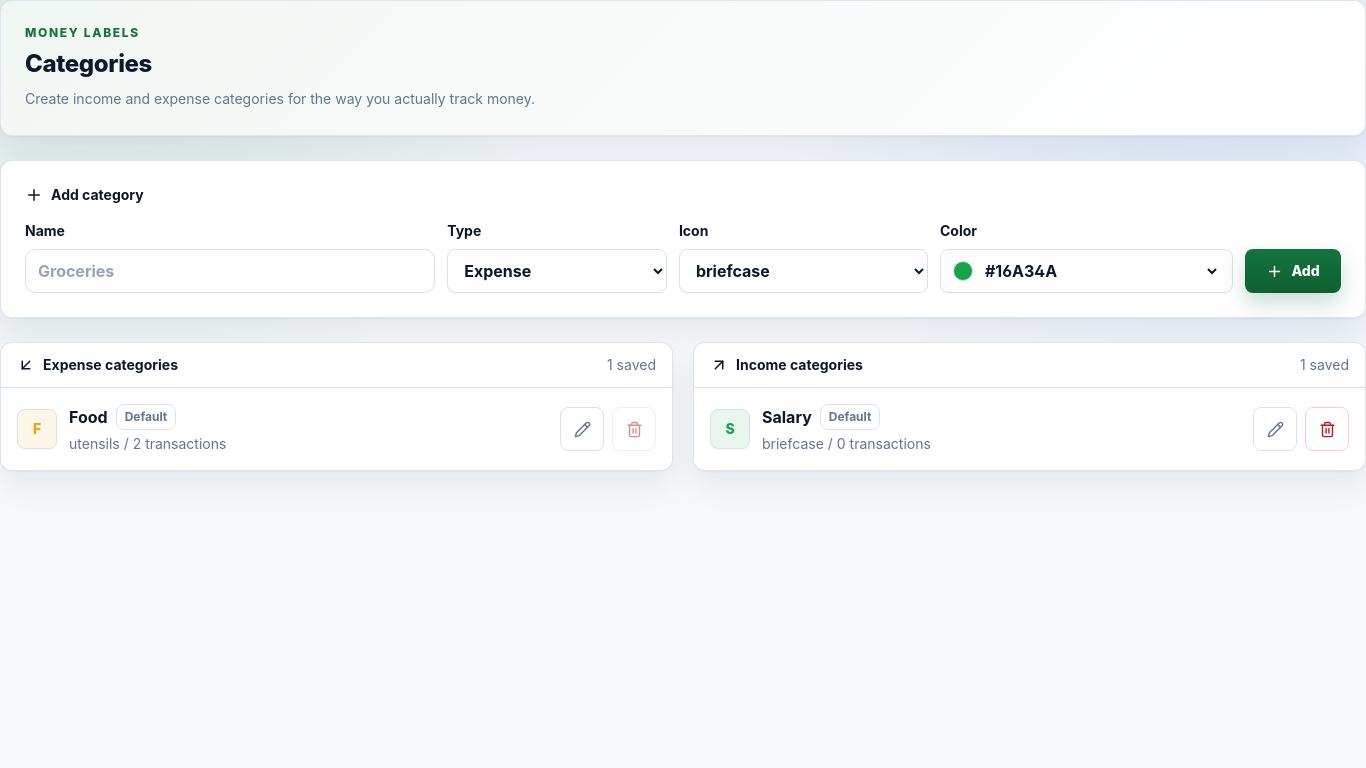
Scenario: CategoryManager › updates an existing category
Expected: the text "Salary" is shown, [762, 405, 812, 429]
Click the button named "Edit Salary category". click: (1275, 429)
box: [1253, 407, 1297, 451]
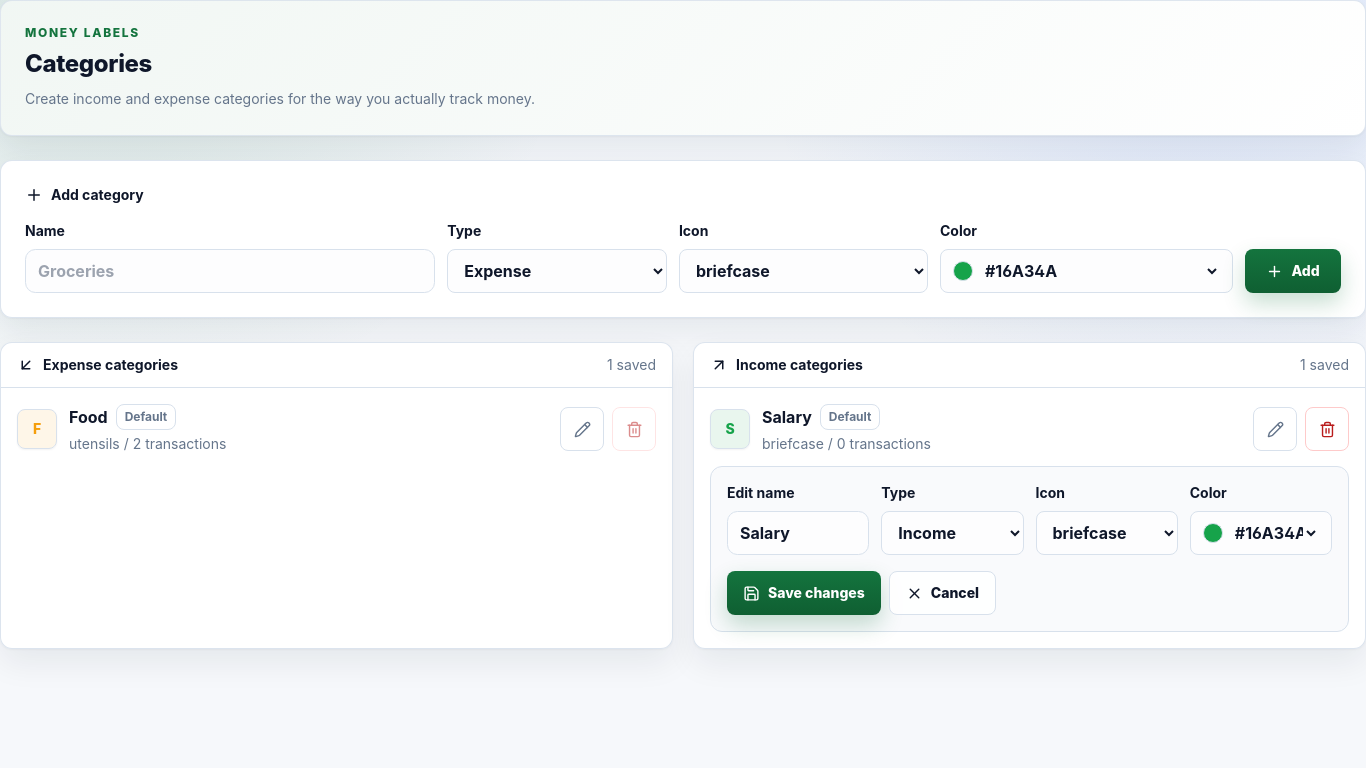
Replace the text in the field labelled "Edit name" with "Monthly Salary". click: (798, 533)
box: [727, 511, 869, 555]
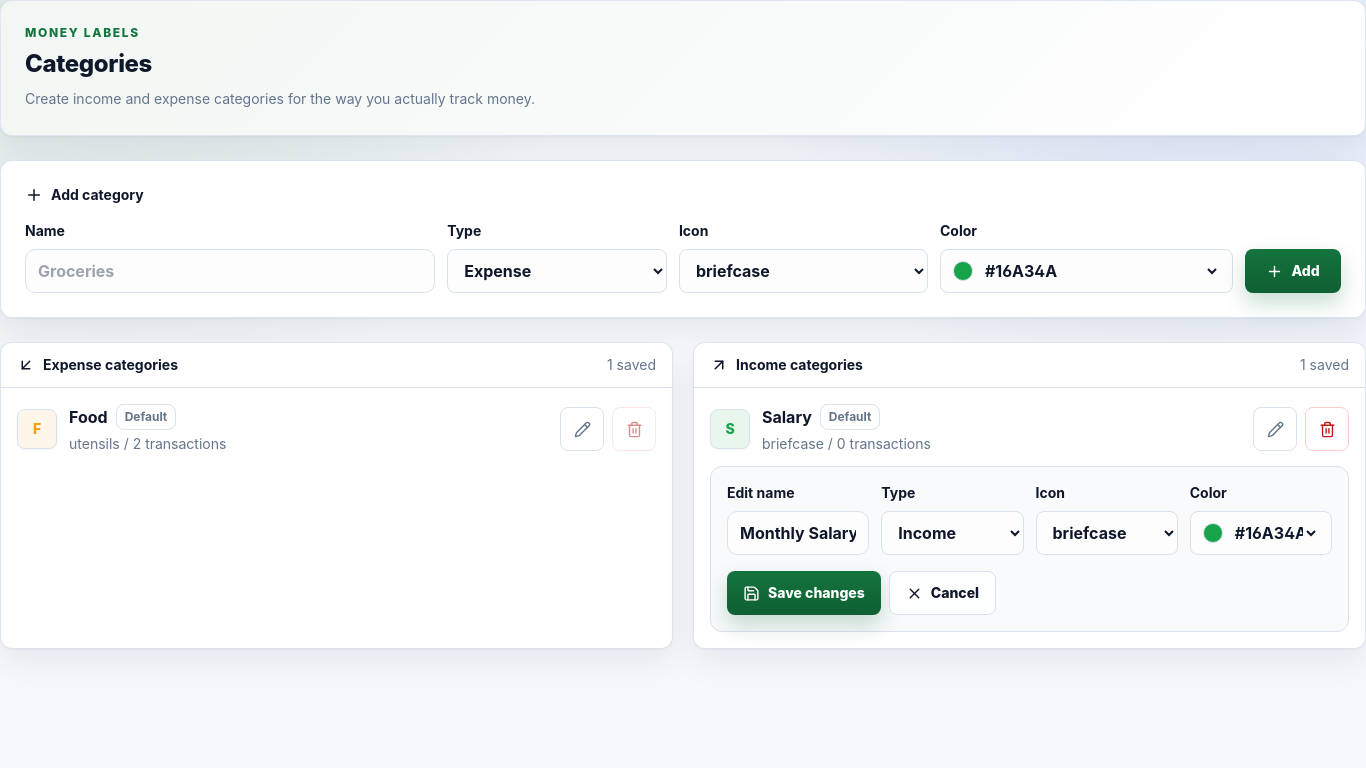
Click the button "Save changes". click: (804, 593)
box: [727, 571, 881, 615]
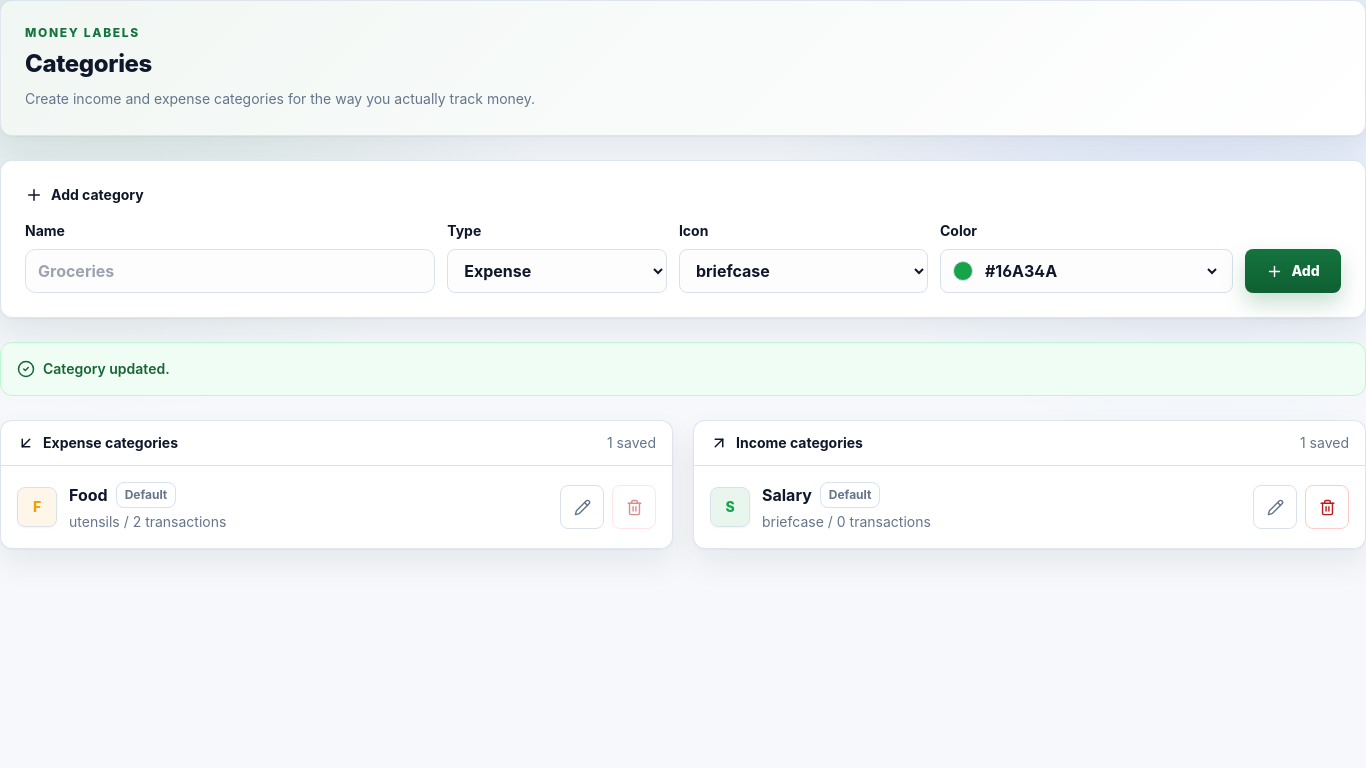
Result: the message reads "Category updated." at [43, 360, 170, 377]
